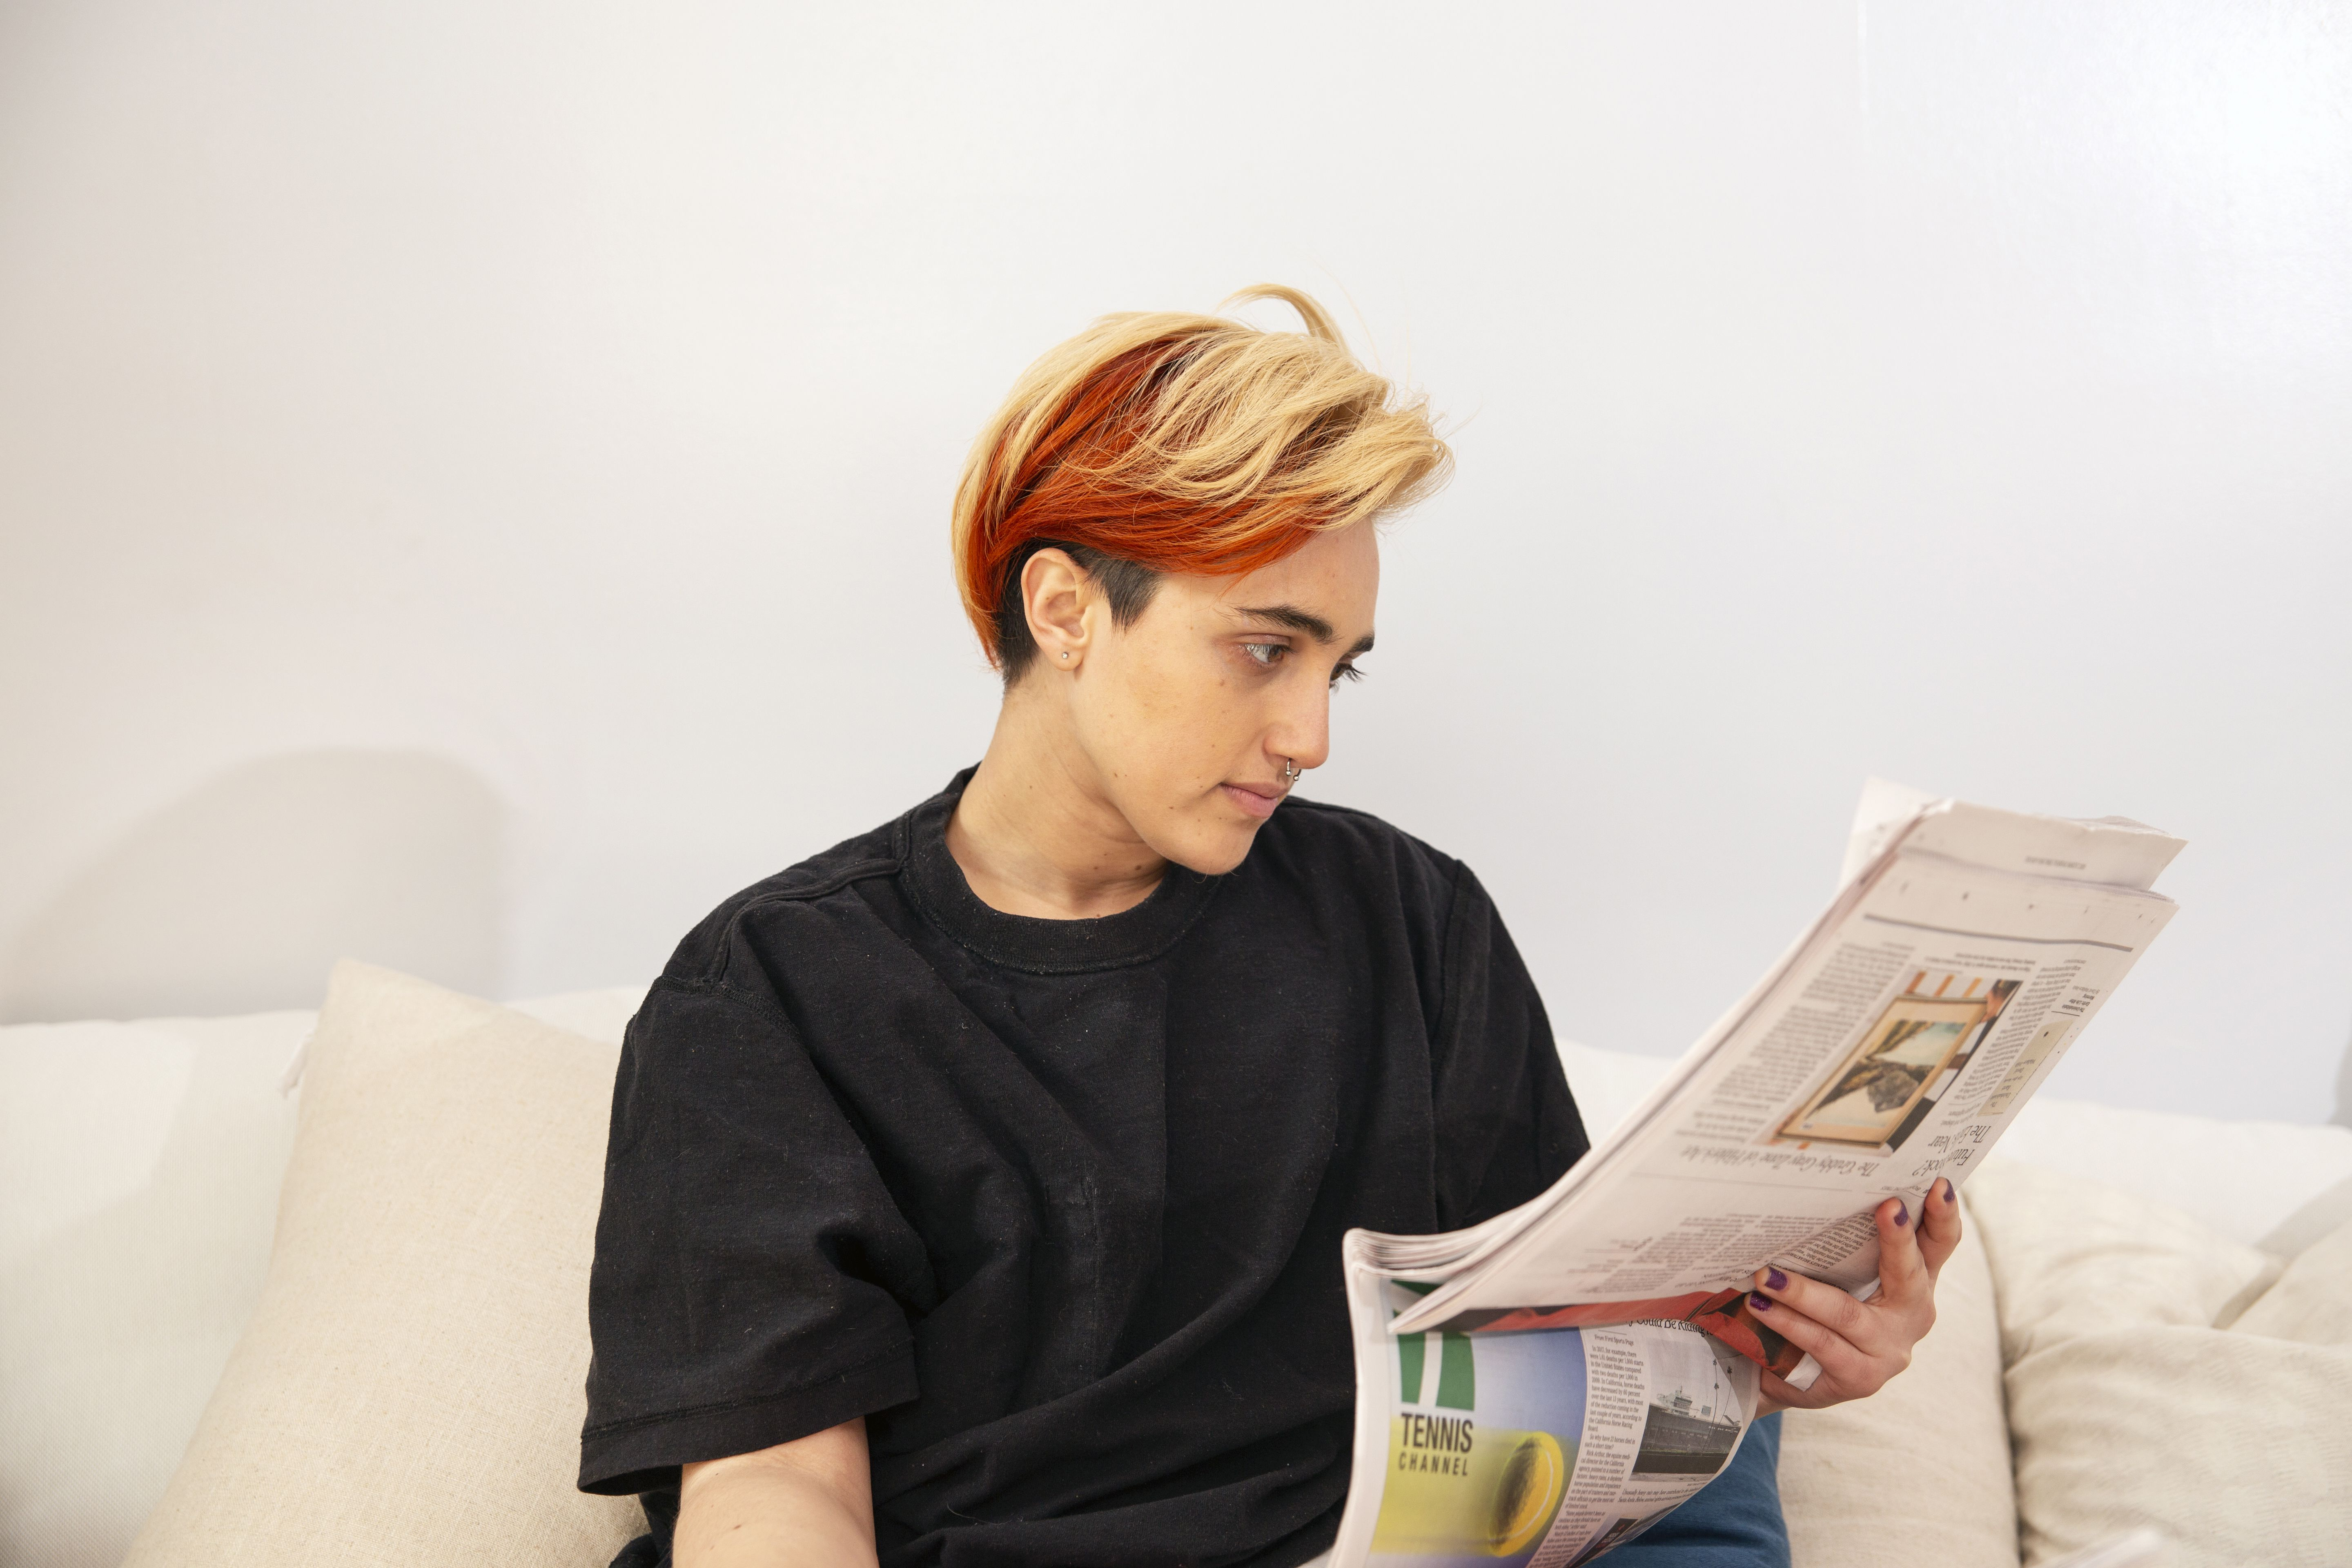human: (544, 274, 2035, 1568)
